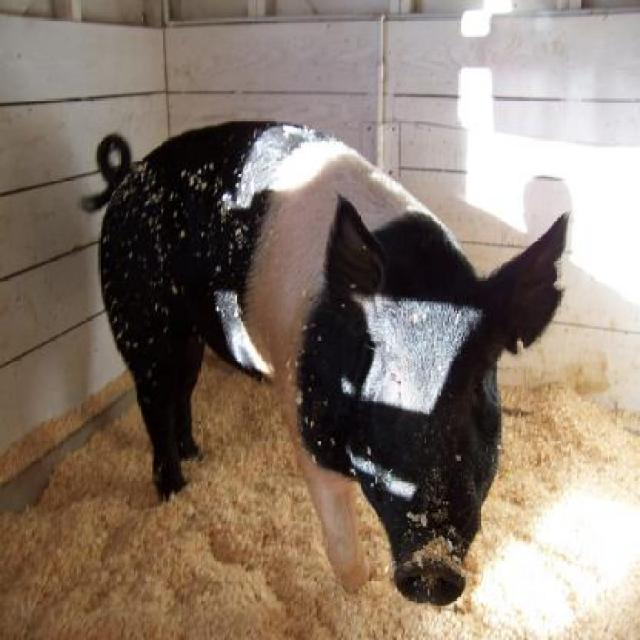pig: (78, 119, 572, 606)
